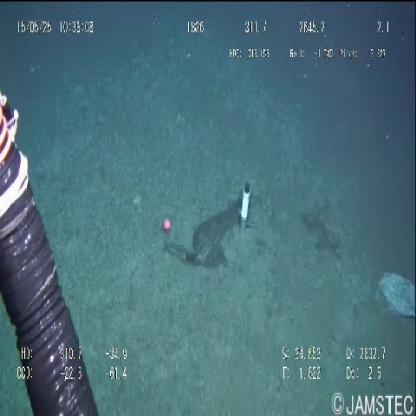Rác: (378, 272, 415, 321)
